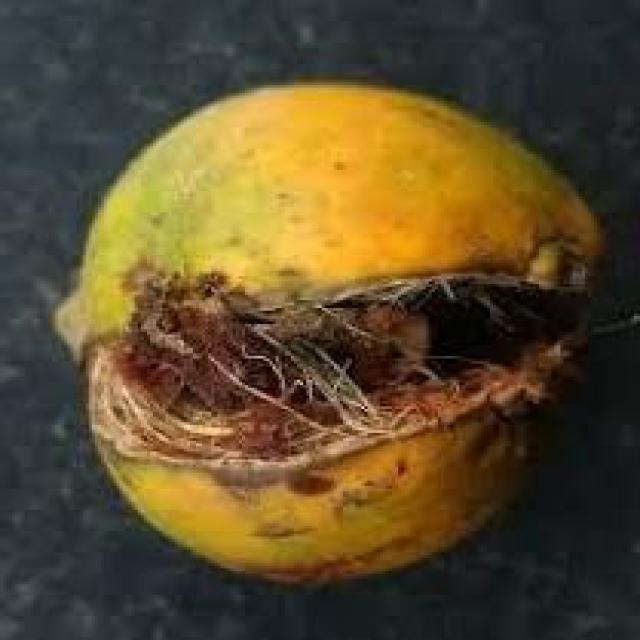damaged: (52, 82, 606, 595)
